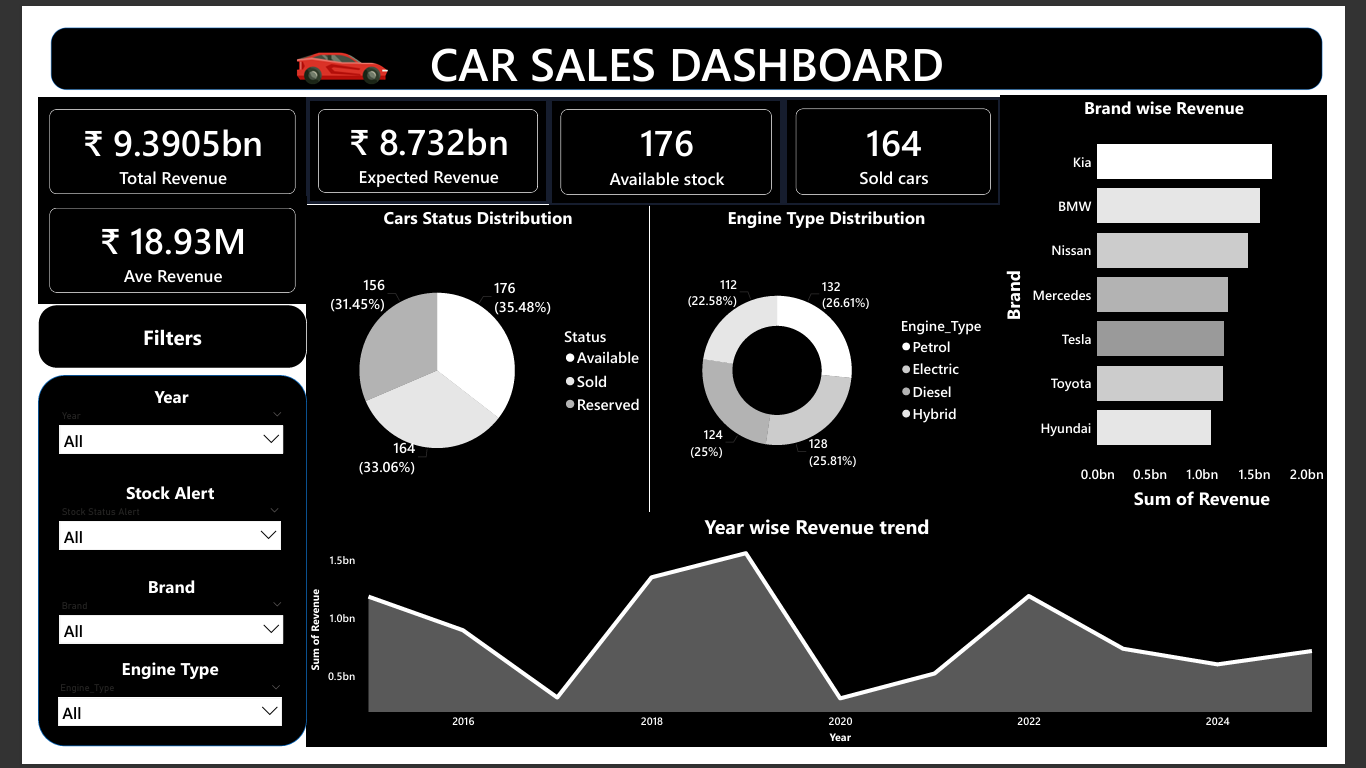

The dashboard page shown, as its layout file describes it:
{"tool":"powerbi","page":{"name":"Page 1","canvas":[1920,1080],"ordinal":0},"visuals":[{"type":"shape","box":[11.1,0,1908.9,108.9],"z":0},{"type":"cardVisual","fields":{"Data":["Sum(Cars__1.Revenue)"]},"box":[0,112.5,400,160],"z":1000},{"type":"cardVisual","fields":{"Data":["Sum(Cars__1.Expected_Revenue)"]},"box":[399.9,112.8,361.4,158.9],"z":2000},{"type":"cardVisual","fields":{"Data":["Cars__1.Sold cars"]},"box":[1110.7,112,324.9,162.4],"z":3000},{"type":"cardVisual","fields":{"Data":["Cars__1.stock value"]},"box":[761.3,112.8,348.6,161.5],"z":4000},{"type":"clusteredBarChart","title":"Brand wise Revenue","fields":{"Category":["Cars__1.Brand"],"Y":["Sum(Cars__1.Revenue)"]},"box":[1433.4,109.8,485.1,621.2],"z":5000},{"type":"pieChart","title":"Cars Status Distribution","fields":{"Category":["Cars__1.Status"],"Y":["CountNonNull(Cars__1.Car_ID)"]},"box":[399.9,274.3,510.1,456.3],"z":6000},{"type":"donutChart","title":"Engine Type Distribution","fields":{"Category":["Cars__1.Engine_Type"],"Y":["CountNonNull(Cars__1.Car_ID)"]},"box":[911,274.4,524.6,456.6],"z":7000},{"type":"lineChart","title":"Year wise Revenue trend","fields":{"Category":["Cars__1.Year"],"Y":["Sum(Cars__1.Revenue)"]},"box":[399.5,731,1519,349],"z":8000},{"type":"shape","box":[0,421.5,399.5,94.4],"z":9000},{"type":"shape","box":[0,525.5,399.9,553.7],"z":10000},{"type":"slicer","title":"Brand","fields":{"Values":["Cars__1.Brand"]},"box":[22,823.2,353.4,122.9],"z":11000},{"type":"slicer","title":"Stock Alert","fields":{"Values":["Cars__1.Stock Status Alert"]},"box":[22,682.7,349,120.7],"z":12000},{"type":"slicer","title":"Engine Type","fields":{"Values":["Cars__1.Engine_Type"]},"box":[19.8,946.1,353.4,112],"z":13000},{"type":"image","box":[250,0,405,137.5],"z":14000},{"type":"cardVisual","fields":{"Data":["Cars__1.Ave Revenue"]},"box":[0,260,400,160],"z":15000},{"type":"slicer","title":"Year","fields":{"Values":["Cars__1.Year"]},"box":[22,540,353.4,116.3],"z":16000}]}

Visuals, with their boxes in screenshot pixels (x1, y1, x2, y2), scaled from the page's 1920x1080 canvas onto the 1366x768 screenshot:
shape: bbox=(8, 0, 1365, 77)
cardVisual - Sum(Cars__1.Revenue): bbox=(0, 80, 285, 194)
cardVisual - Sum(Cars__1.Expected_Revenue): bbox=(285, 80, 542, 193)
cardVisual - Cars__1.Sold cars: bbox=(790, 80, 1021, 195)
cardVisual - Cars__1.stock value: bbox=(542, 80, 790, 195)
"Brand wise Revenue" clusteredBarChart: bbox=(1020, 78, 1365, 520)
"Cars Status Distribution" pieChart: bbox=(285, 195, 647, 520)
"Engine Type Distribution" donutChart: bbox=(648, 195, 1021, 520)
"Year wise Revenue trend" lineChart: bbox=(284, 520, 1365, 767)
shape: bbox=(0, 300, 284, 367)
shape: bbox=(0, 374, 285, 767)
"Brand" slicer: bbox=(16, 585, 267, 673)
"Stock Alert" slicer: bbox=(16, 485, 264, 571)
"Engine Type" slicer: bbox=(14, 673, 266, 752)
image: bbox=(178, 0, 466, 98)
cardVisual - Cars__1.Ave Revenue: bbox=(0, 185, 285, 299)
"Year" slicer: bbox=(16, 384, 267, 467)
